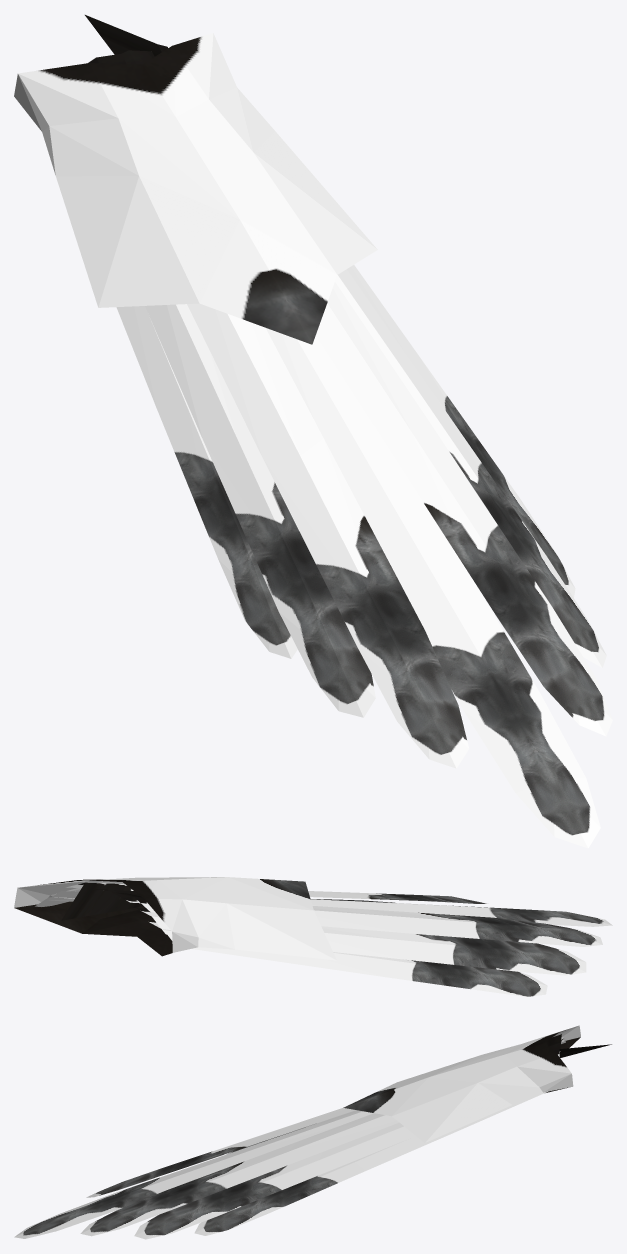
File: rabo.obj
The picture shows the model from 3 angles, top to bottom: view 1: azimuth 30°, elevation 25°; view 2: azimuth 150°, elevation 25°; view 3: azimuth 270°, elevation 25°; orthographic projection. The views are drawn at different scales.
Visible parts, largest first — view 1: rabo.002_FSGD4WGTLHUBHEAEXVTUQAYRU.004; view 2: rabo.002_FSGD4WGTLHUBHEAEXVTUQAYRU.004; view 3: rabo.002_FSGD4WGTLHUBHEAEXVTUQAYRU.004.
Boxes of the visible parts, x1,y1,x2,y2 form: rabo.002_FSGD4WGTLHUBHEAEXVTUQAYRU.004: [14, 15, 612, 848]; rabo.002_FSGD4WGTLHUBHEAEXVTUQAYRU.004: [14, 877, 612, 996]; rabo.002_FSGD4WGTLHUBHEAEXVTUQAYRU.004: [14, 1025, 611, 1239].
Bounding box in the file's own units: 0.5787 × 0.7239 × 1.86.
